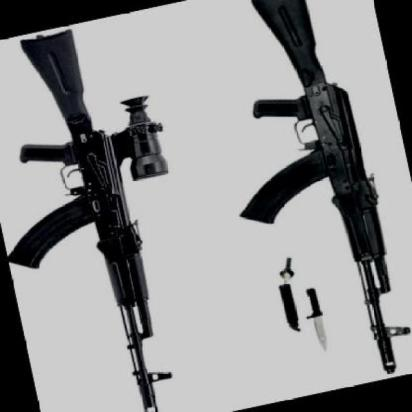Gun: (230, 0, 412, 379)
